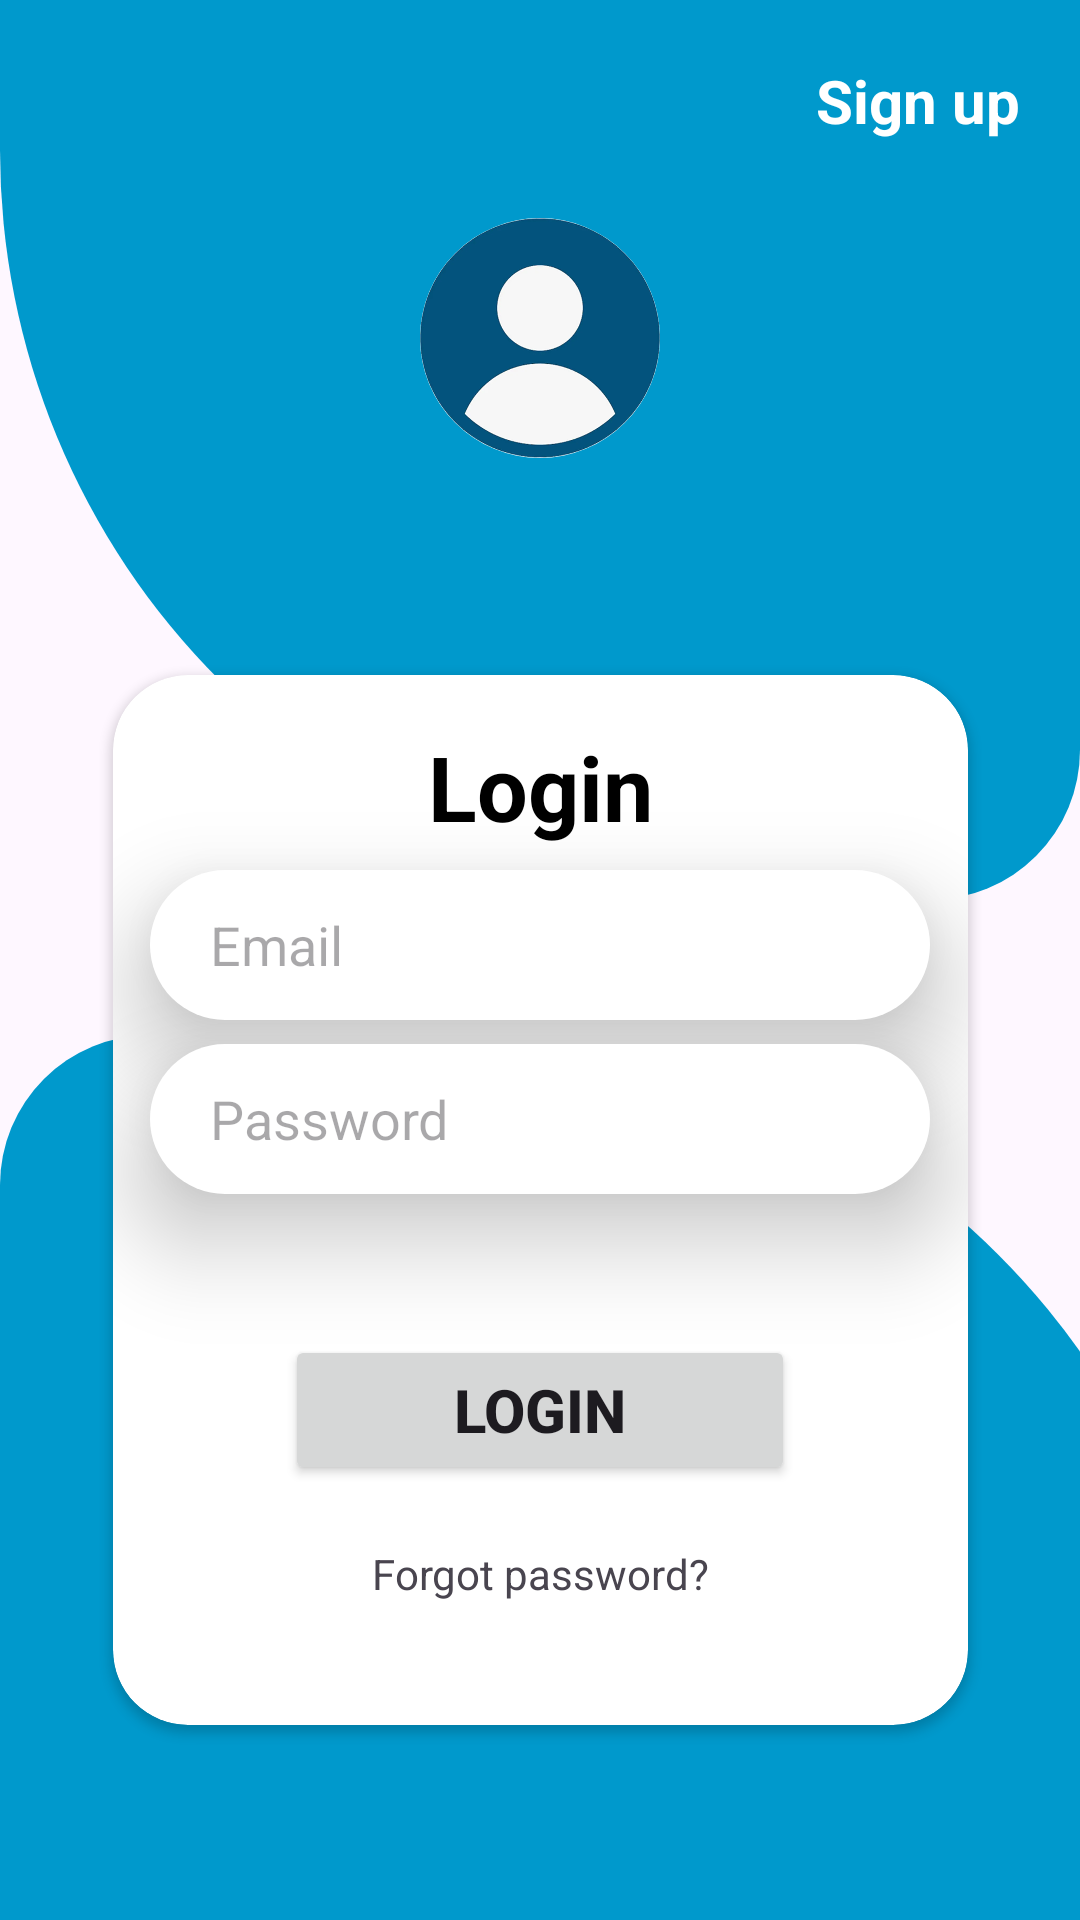

Screen size 1080px×1920px. Icon name, then its center in pixels as (x=x, y=y):
person: (x=540, y=338)
